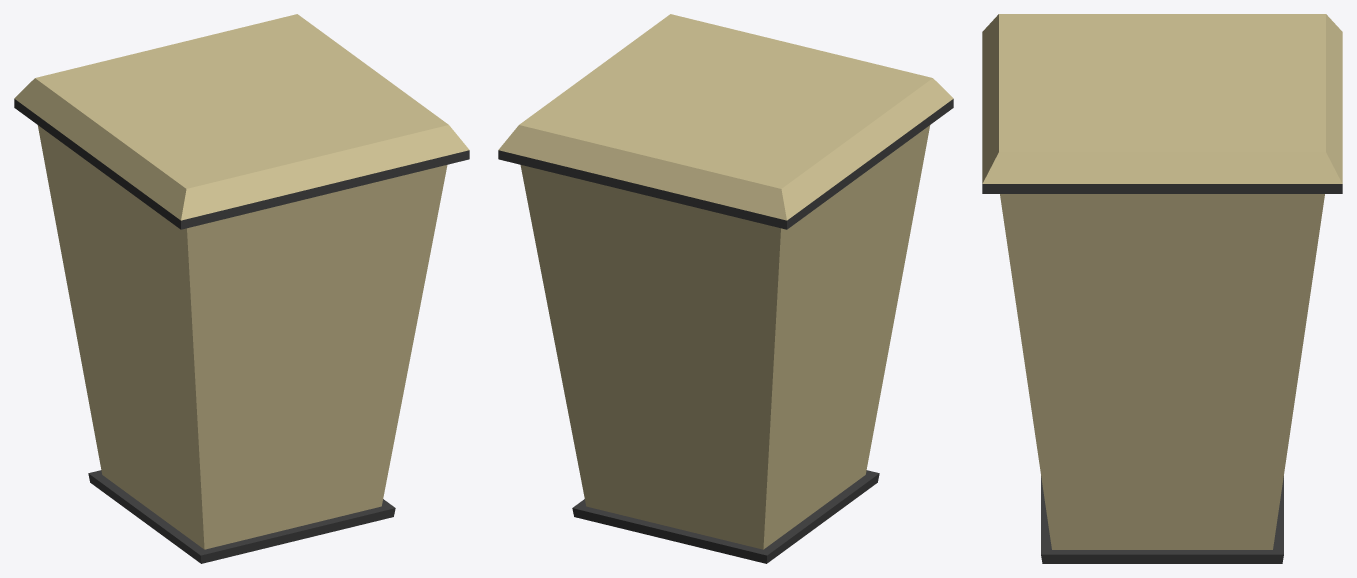
File: Laundry Basket.fbx
3 renders of one model, left to right at view 1: azimuth 30°, elevation 25°; view 2: azimuth 150°, elevation 25°; view 3: azimuth 270°, elevation 25°, orthographic. The views are drawn at different scales.
Visible parts, largest first — view 1: Laundry Basket, Lid; view 2: Laundry Basket, Lid; view 3: Laundry Basket, Lid.
Boxes of the visible parts, left/top/right/bottom form: Laundry Basket: left=37, top=125, right=447, bottom=563; Lid: left=14, top=14, right=469, bottom=229; Laundry Basket: left=520, top=125, right=930, bottom=563; Lid: left=498, top=14, right=953, bottom=229; Laundry Basket: left=1000, top=194, right=1324, bottom=563; Lid: left=982, top=14, right=1342, bottom=193.
Size of the model in its own units: 528 by 696 by 528.
